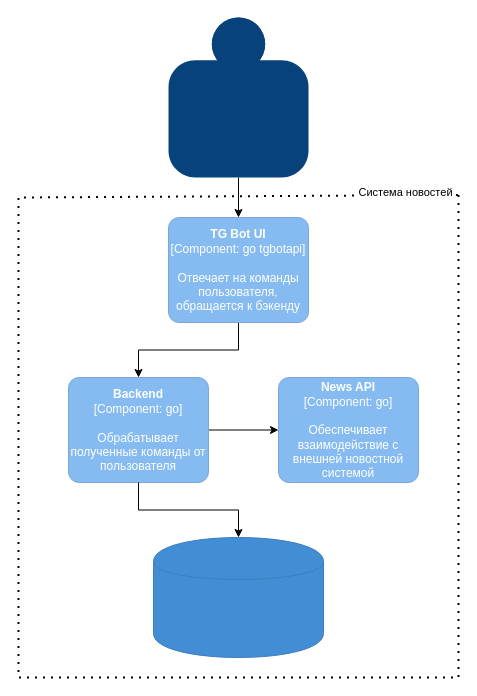
Image size: 477x696. Some labels were removed from this diagram. The box of each missing label's shape, as (x1, y1, x2, y2) in pixels:
Database [Container: PostgreSQL] Хранит информацию о пользователе и статьях: (152, 536, 324, 658)
Пользователь [Person] Использует систему для получения новостей: (168, 17, 308, 177)
